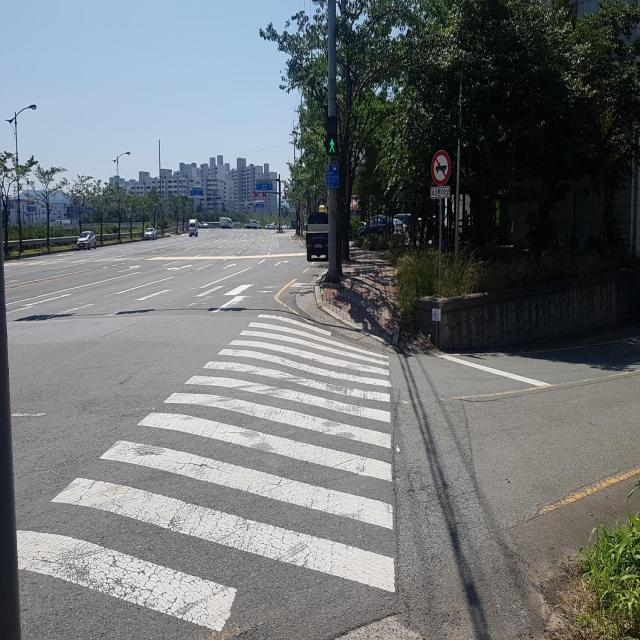횡단보도: (16, 312, 396, 637)
